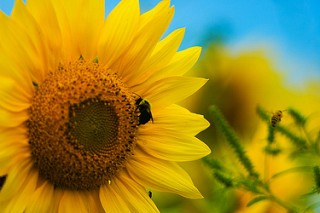flower: (0, 1, 218, 213)
